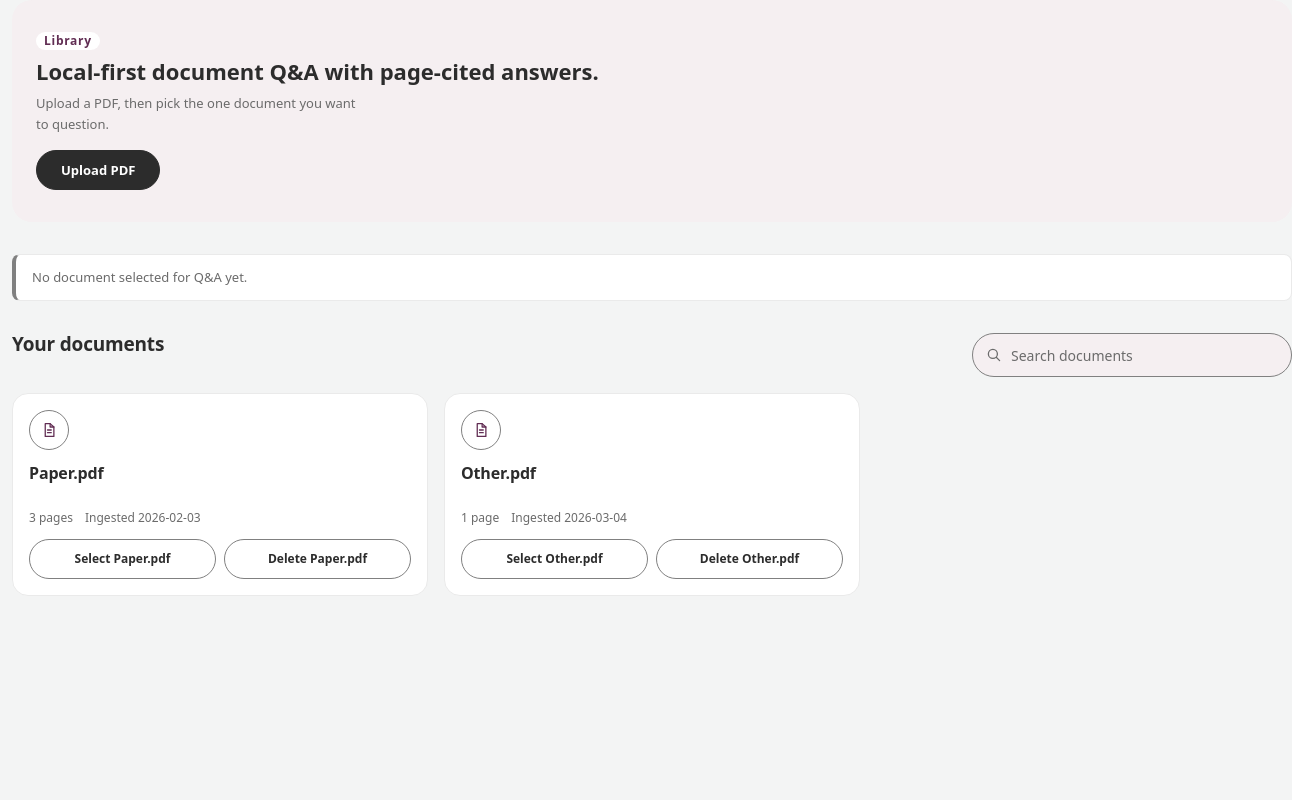
Test: Library › clears the Q&A target when the selected document is deleted
Expected: the heading "Paper.pdf" is shown, [29, 462, 104, 484]
Click the button "Select Paper.pdf" at x=122, y=559, box [29, 539, 216, 579]
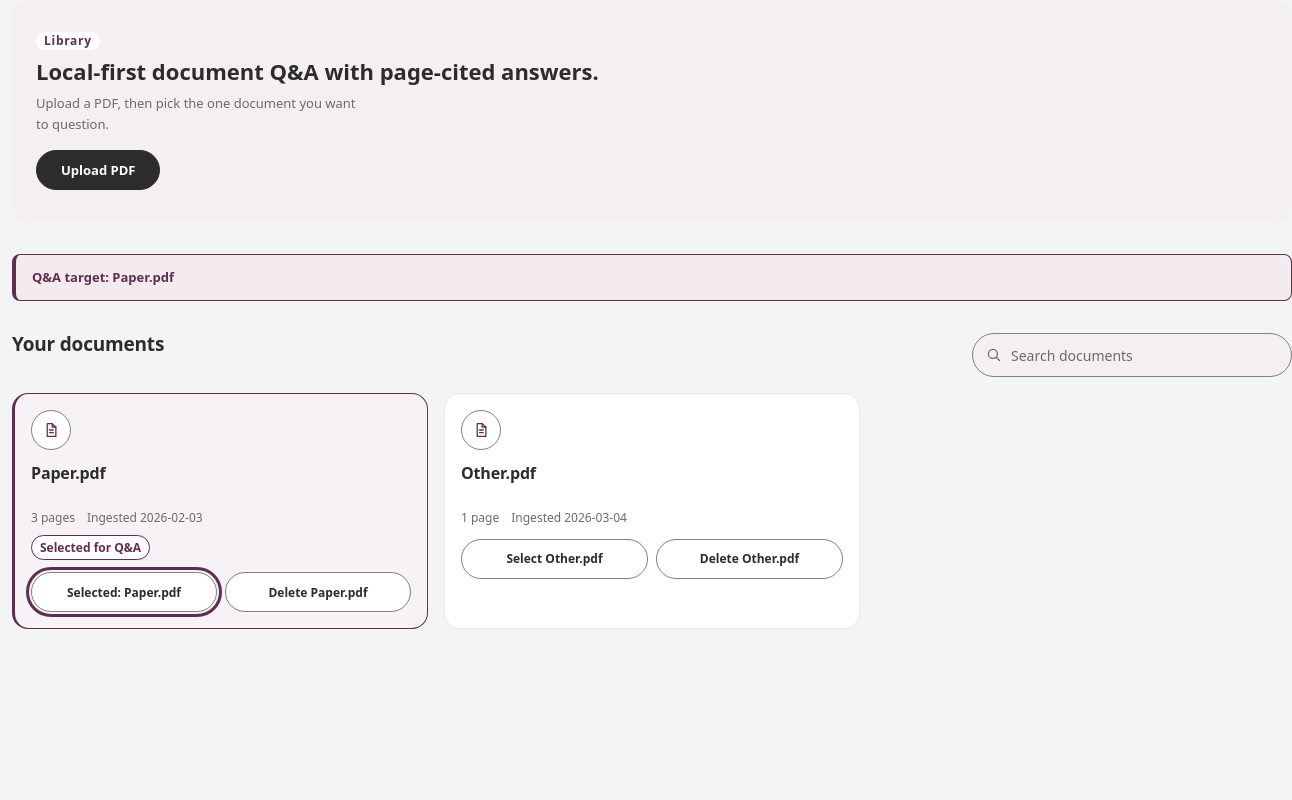
Click the button "Delete Paper.pdf" at x=318, y=592, box [225, 572, 411, 612]
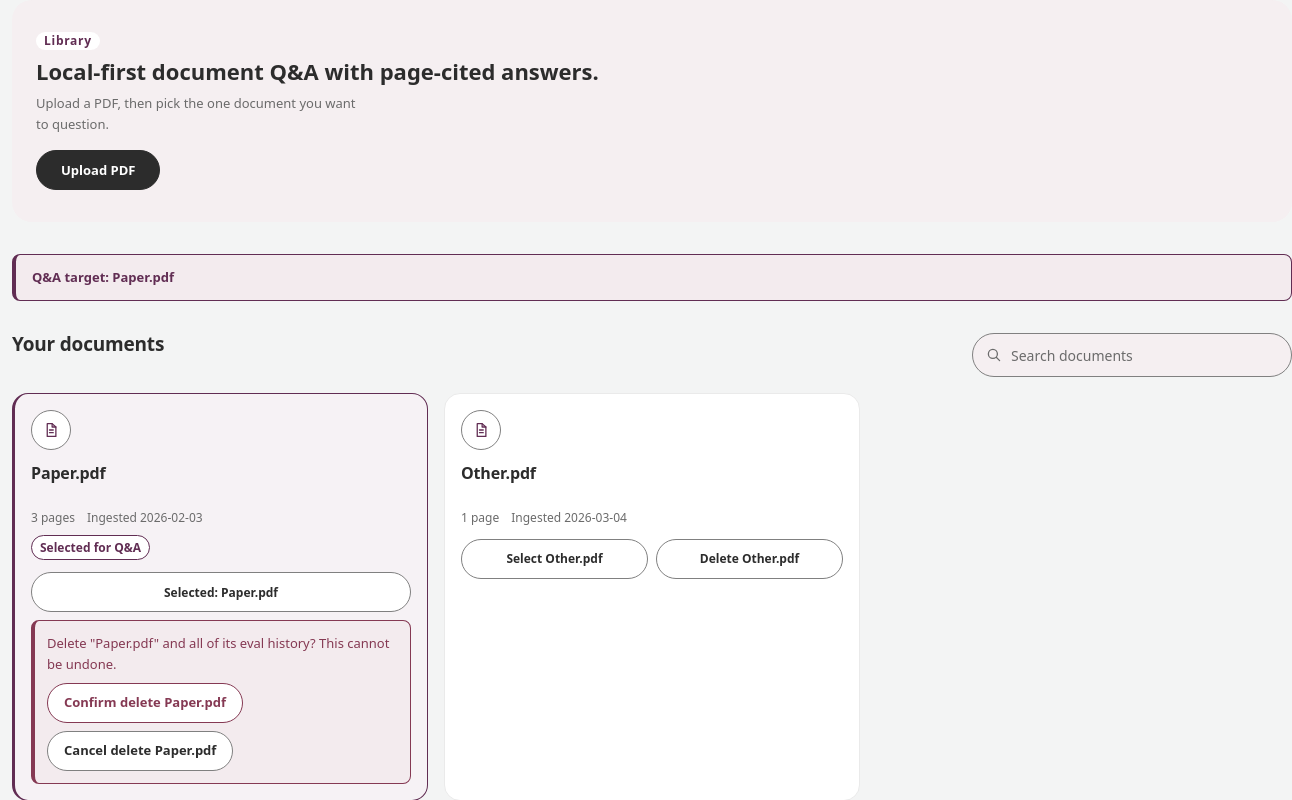
Click the button "Confirm delete Paper.pdf" at x=145, y=703, box [47, 683, 243, 723]
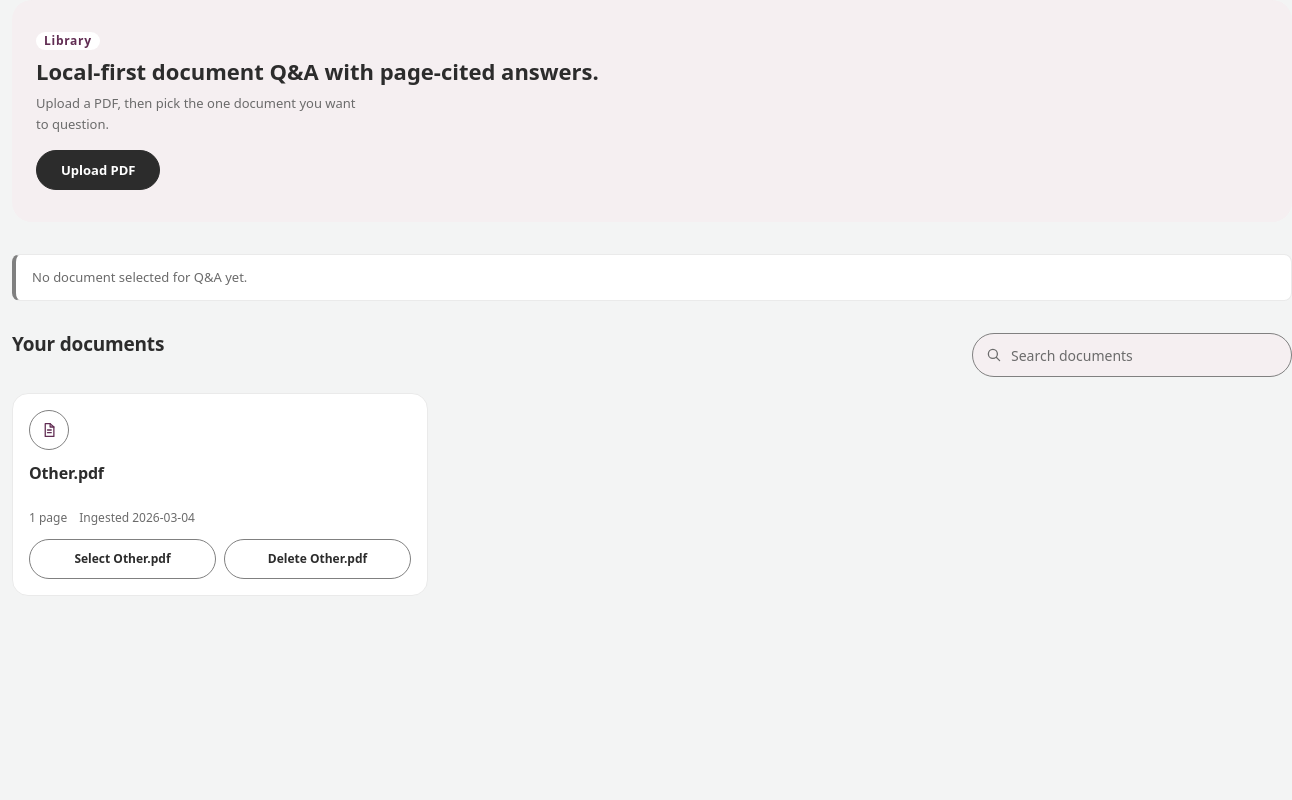
Now the text "No document selected for Q&A yet." is shown, box [12, 254, 1291, 301]
